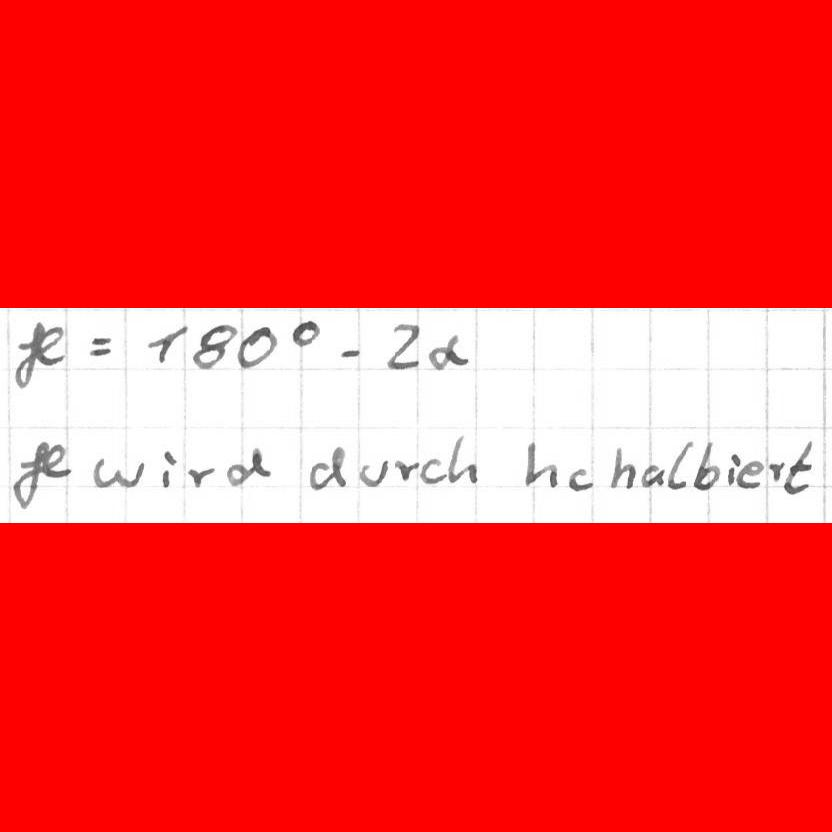Char: (7, 438, 64, 505), (11, 320, 65, 388), (191, 323, 237, 368), (521, 438, 559, 491), (93, 452, 143, 491), (307, 445, 348, 491), (446, 432, 480, 487), (782, 440, 814, 498), (145, 324, 189, 365), (385, 323, 421, 371), (237, 324, 277, 366), (428, 331, 472, 369), (226, 447, 267, 486), (666, 441, 693, 491), (694, 442, 719, 491), (609, 444, 634, 491), (360, 456, 390, 488), (185, 461, 215, 490), (290, 318, 321, 346), (736, 459, 764, 489), (159, 448, 178, 492), (420, 456, 445, 486), (86, 333, 116, 358), (640, 463, 666, 488), (567, 465, 592, 491), (395, 457, 419, 482), (727, 453, 740, 487), (337, 345, 363, 360), (767, 461, 785, 480)
